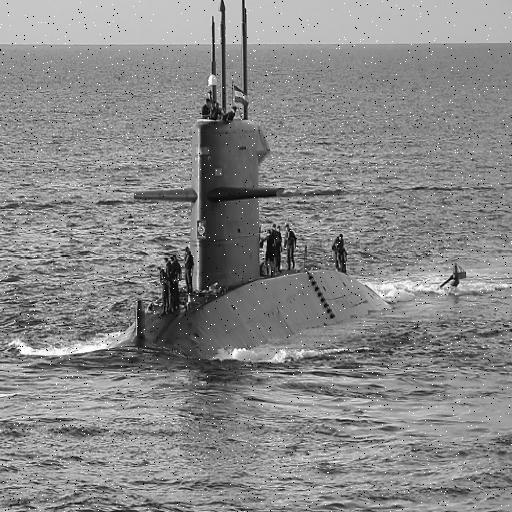submarine: (126, 1, 479, 367)
